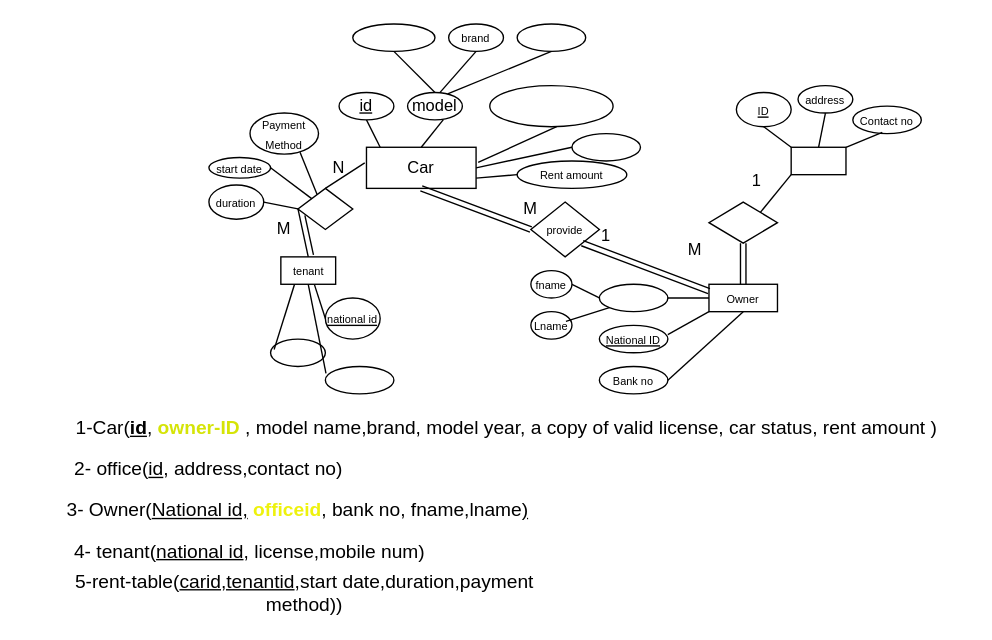
This 992x640 diagram has some shape labels left out. Each missing label, with the centre of its shape:
"A copy of valid license" goes at point 550,105.
"Apply" goes at point 742,222.
"Car status" goes at point 605,146.
"full name" goes at point 633,297.
"license" goes at point 297,352.
"mobil num" goes at point 359,379.
"model name" goes at point 393,37.
"model year" goes at point 551,37.
"Office" goes at point 818,160.
"Rent" goes at point 325,208.
